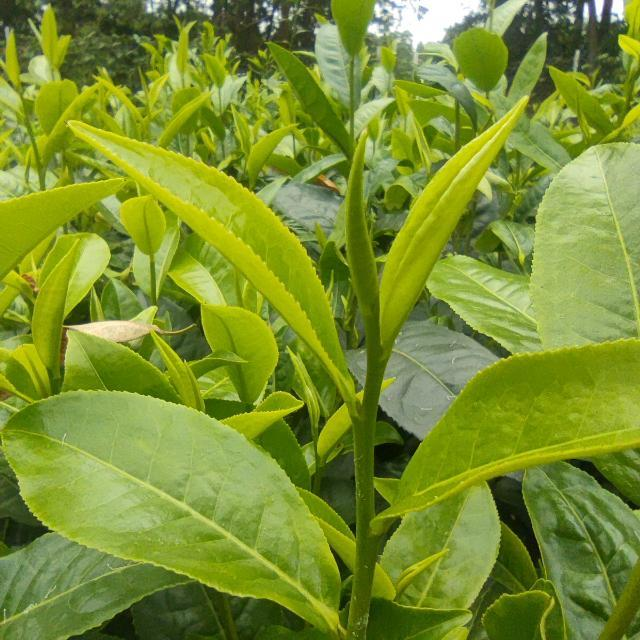Stem: (366, 355, 388, 378), (315, 459, 326, 470)
